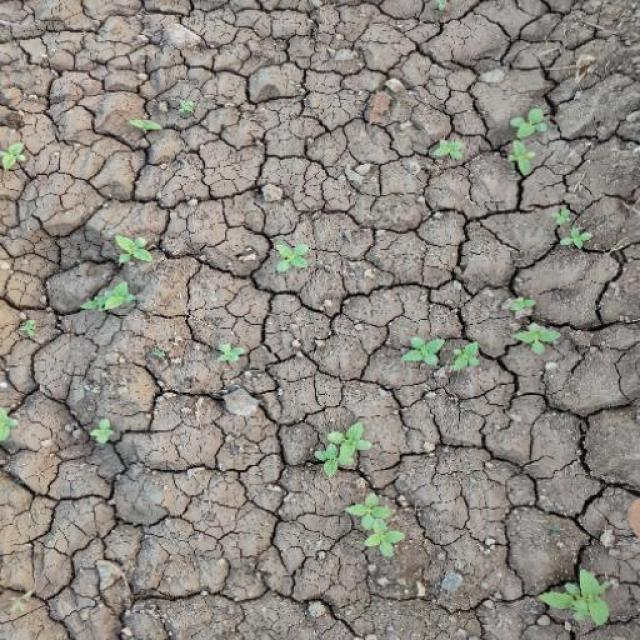crop: (540, 560, 624, 634), (336, 491, 420, 564), (502, 276, 564, 356), (398, 322, 483, 380), (309, 428, 390, 478), (502, 105, 552, 185), (552, 202, 602, 264), (425, 129, 473, 169), (81, 284, 141, 314), (109, 234, 156, 266), (270, 238, 312, 272)
